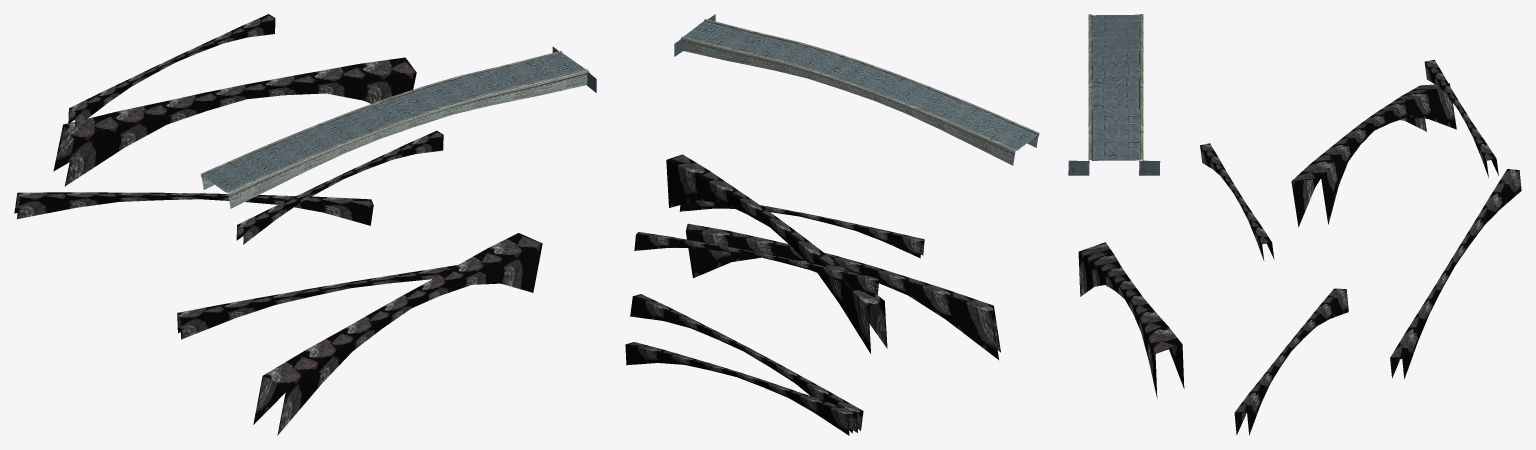
The model's file is Maincity_Bridge.FBX.
3 renders of one model, left to right at view 1: azimuth 30°, elevation 25°; view 2: azimuth 150°, elevation 25°; view 3: azimuth 270°, elevation 25°, orthographic. The views are drawn at different scales.
Parts seen in each view (by area): view 1: Bridge; view 2: Bridge; view 3: Bridge.
Part boxes in pixels (x1,y1,x2,y2): Bridge: [14, 14, 596, 435]; Bridge: [625, 14, 1039, 435]; Bridge: [1068, 14, 1521, 435].
Bounding box in the file's own units: 8873 × 6508 × 9006.
